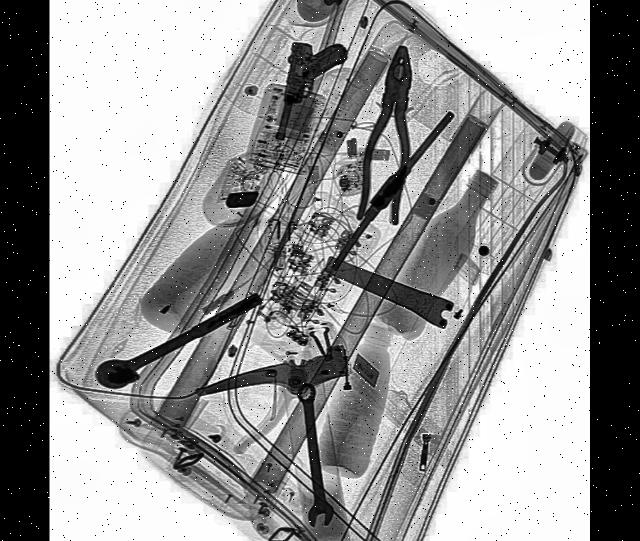Gun: (271, 29, 350, 159)
Pliers: (354, 40, 425, 230)
Wrench: (289, 380, 336, 530)
